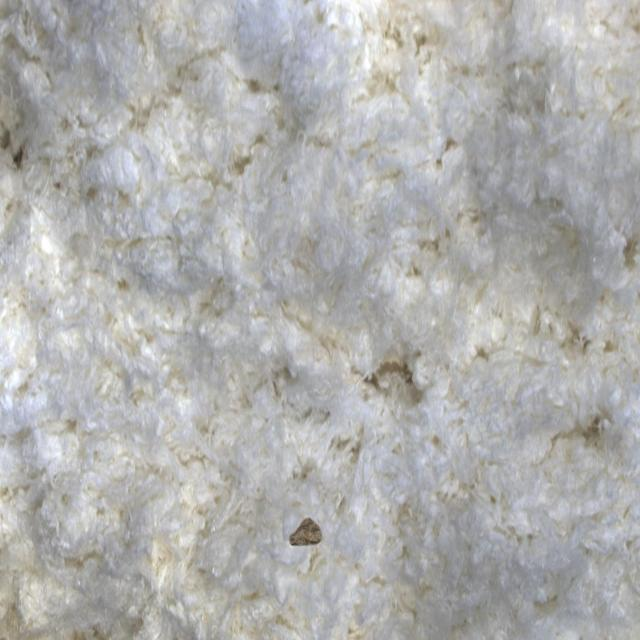dust: (274, 492, 345, 579)
